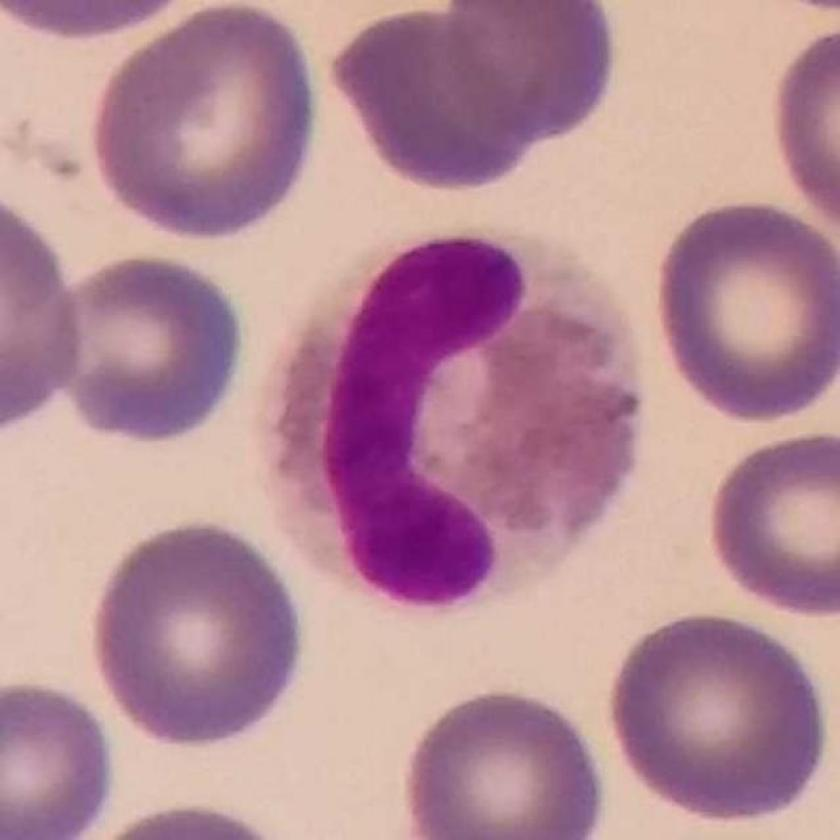eosinophil: (258, 219, 647, 610)
